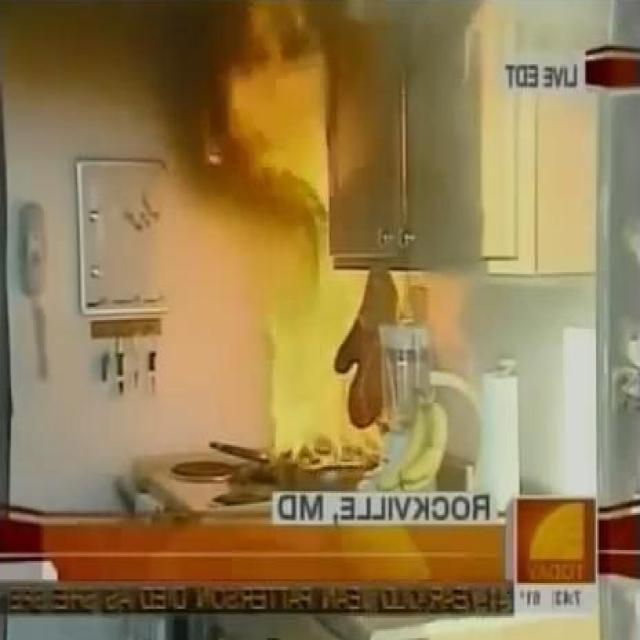smoke: (262, 272, 424, 462), (211, 5, 328, 218)
